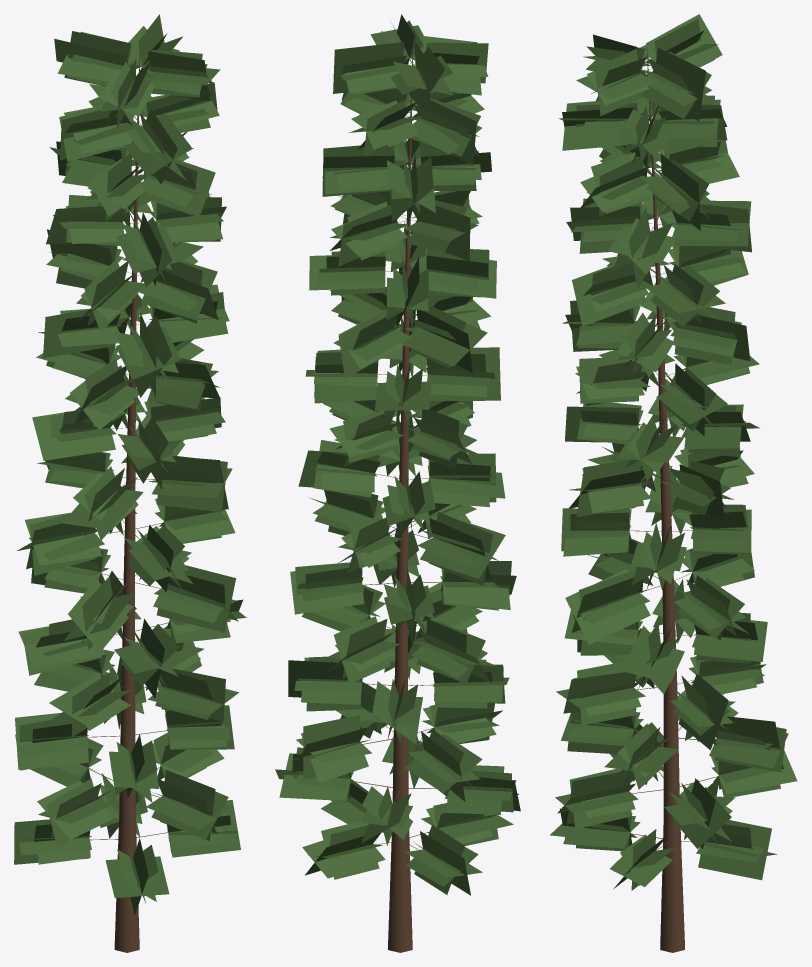
The model's file is seedthree-fir-1.gltf.
3 views of the same model, side by side, from view 1: azimuth 30°, elevation 25°; view 2: azimuth 150°, elevation 25°; view 3: azimuth 270°, elevation 25° (orthographic).
Parts seen in each view (by area): view 1: seedthree-fir-1_leaves, seedthree-fir-1_branches; view 2: seedthree-fir-1_leaves, seedthree-fir-1_branches; view 3: seedthree-fir-1_leaves, seedthree-fir-1_branches.
Part boxes in pixels (x1=…): seedthree-fir-1_leaves: x1=14, y1=14, x2=246, y2=915; seedthree-fir-1_branches: x1=75, y1=46, x2=175, y2=952; seedthree-fir-1_leaves: x1=275, y1=14, x2=520, y2=895; seedthree-fir-1_branches: x1=346, y1=38, x2=442, y2=952; seedthree-fir-1_leaves: x1=550, y1=14, x2=797, y2=890; seedthree-fir-1_branches: x1=602, y1=45, x2=718, y2=952.
Bounding box in the file's own units: 2.17 × 9 × 2.23.
